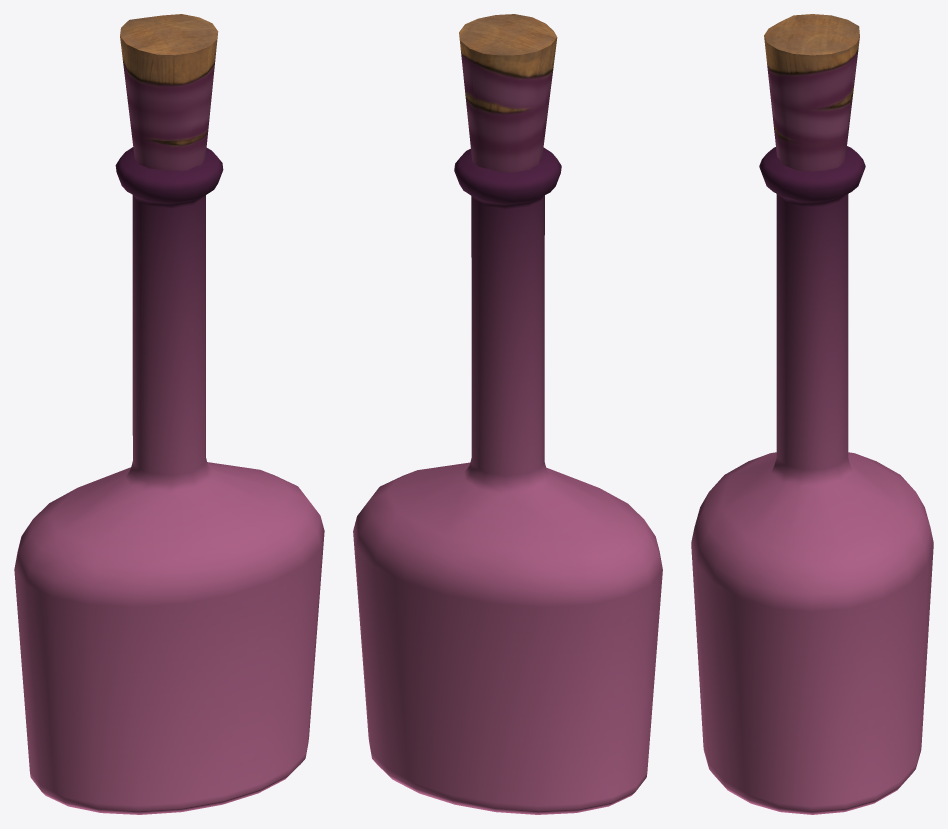
The model's file is SM_Potion_Props_Bottle_Small_04_A.fbx.
The picture shows the model from 3 angles, left to right: view 1: azimuth 30°, elevation 25°; view 2: azimuth 150°, elevation 25°; view 3: azimuth 270°, elevation 25°; orthographic projection.
Parts seen in each view (by area): view 1: SM_Potion_Props_Bottle_Small_04_A_LOD0; view 2: SM_Potion_Props_Bottle_Small_04_A_LOD0; view 3: SM_Potion_Props_Bottle_Small_04_A_LOD0.
Part boxes in pixels (x1,y1,x2,y2): SM_Potion_Props_Bottle_Small_04_A_LOD0: [14, 14, 324, 814]; SM_Potion_Props_Bottle_Small_04_A_LOD0: [353, 14, 662, 814]; SM_Potion_Props_Bottle_Small_04_A_LOD0: [691, 14, 933, 814].
Size of what is drawn, in the model's own units: 11.77 by 28.95 by 8.78.
